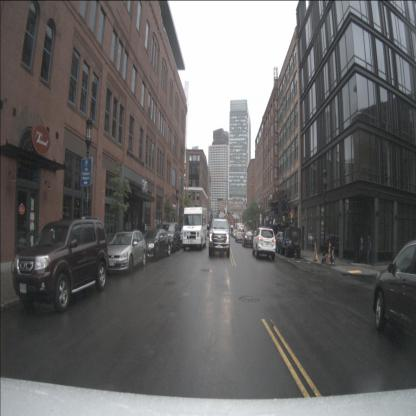human-pedestrian-adult: (366, 235, 372, 265), (359, 234, 364, 263)
movable_object-trafficcone: (326, 242, 331, 266), (313, 240, 317, 262)
vehicle-bicycle: (329, 243, 337, 266)
vehicle-car: (11, 218, 108, 314), (373, 239, 415, 354), (106, 230, 146, 276), (142, 228, 171, 262), (252, 226, 276, 260), (281, 226, 302, 259), (160, 222, 180, 253), (274, 231, 287, 254), (242, 231, 255, 247), (315, 232, 327, 243), (236, 228, 245, 242), (304, 232, 315, 243), (233, 229, 238, 238)
vehicle-truck: (182, 207, 208, 250), (208, 218, 230, 258)
